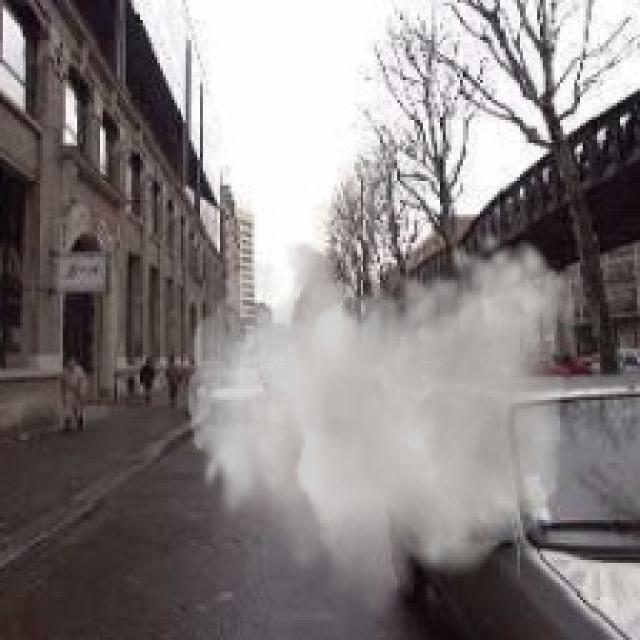Smoke: (185, 225, 580, 626)
